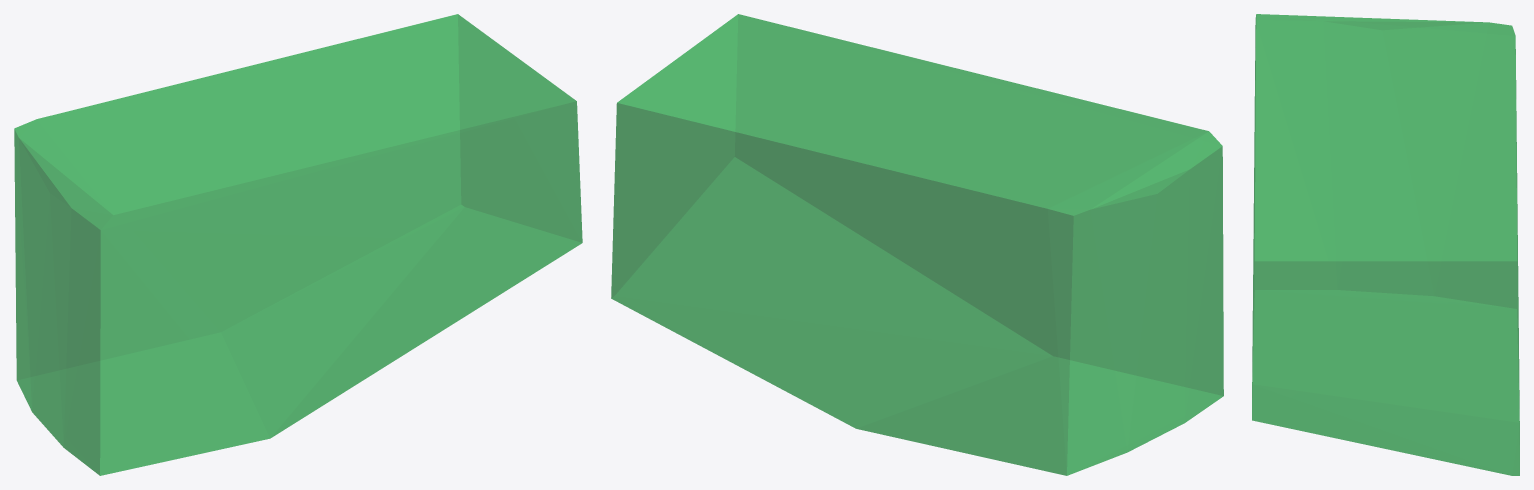
3 renders of one model, left to right at view 1: azimuth 30°, elevation 25°; view 2: azimuth 150°, elevation 25°; view 3: azimuth 270°, elevation 25°, orthographic. The views are drawn at different scales.
Visible parts, largest first — view 1: Shape_IndexedFaceSet.001_Shape_IndexedFaceSet.5677; view 2: Shape_IndexedFaceSet.001_Shape_IndexedFaceSet.5677; view 3: Shape_IndexedFaceSet.001_Shape_IndexedFaceSet.5677.
Boxes of the visible parts, x1,y1,x2,y2 form: Shape_IndexedFaceSet.001_Shape_IndexedFaceSet.5677: (14, 14, 582, 475); Shape_IndexedFaceSet.001_Shape_IndexedFaceSet.5677: (611, 14, 1223, 475); Shape_IndexedFaceSet.001_Shape_IndexedFaceSet.5677: (1252, 14, 1519, 475).
Bounding box in the file's own units: 0.253 × 0.1314 × 0.1105.
